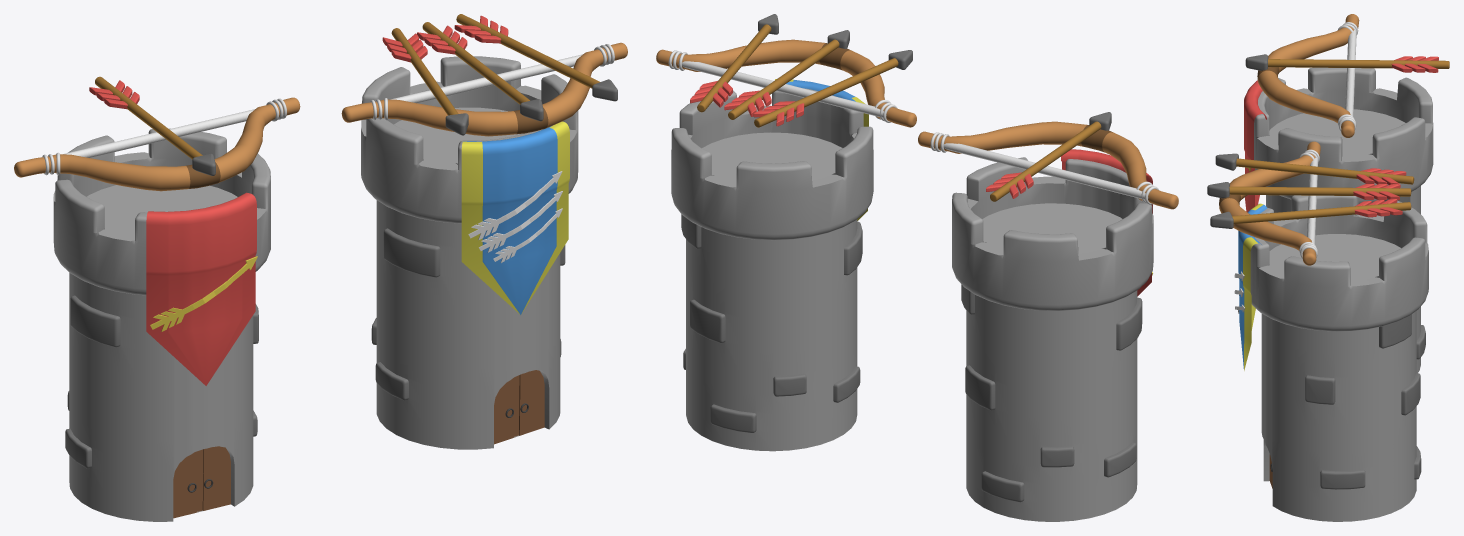
Rendered from Bow and Arrow tower 1.fbx.
3 views of the same model, side by side, from view 1: azimuth 30°, elevation 25°; view 2: azimuth 150°, elevation 25°; view 3: azimuth 270°, elevation 25° (orthographic). The views are drawn at different scales.
Visible parts, largest first — view 1: Cylinder.005, Cylinder.002, BezierCircle, BezierCircle.001, Cube.012, Cube.008, Cube.009, Cube.011, Cylinder.003, Cylinder.004; view 2: Cylinder.005, Cylinder.002, BezierCircle, BezierCircle.001, Cube.011, Cube.008, Cube.009, Cylinder.003, Cube.012, Cylinder.004; view 3: Cylinder.002, Cylinder.005, BezierCircle, BezierCircle.001, Cube.008, Cube.012, Cube.009, Cube.011, Cylinder.003, Cylinder.004.
Boxes of the visible parts, <box> form: Cylinder.005: <box>53,128,270,521</box>; Cylinder.002: <box>361,56,578,449</box>; BezierCircle: <box>14,97,300,191</box>; BezierCircle.001: <box>341,42,627,136</box>; Cube.012: <box>454,14,617,101</box>; Cube.008: <box>89,76,215,175</box>; Cube.009: <box>417,22,543,121</box>; Cube.011: <box>382,28,468,135</box>; Cylinder.003: <box>63,109,254,157</box>; Cylinder.004: <box>390,54,582,103</box>; Cylinder.005: <box>952,149,1153,521</box>; Cylinder.002: <box>671,79,873,451</box>; BezierCircle: <box>918,121,1178,209</box>; BezierCircle.001: <box>656,39,916,127</box>; Cube.011: <box>753,50,912,127</box>; Cube.008: <box>986,112,1111,201</box>; Cube.009: <box>724,30,849,119</box>; Cylinder.003: <box>943,143,1148,199</box>; Cube.012: <box>690,14,778,112</box>; Cylinder.004: <box>682,61,886,117</box>; Cylinder.002: <box>1234,195,1428,521</box>; Cylinder.005: <box>1244,67,1433,373</box>; BezierCircle: <box>1257,14,1359,137</box>; BezierCircle.001: <box>1219,141,1320,265</box>; Cube.008: <box>1245,54,1449,72</box>; Cube.012: <box>1210,199,1411,228</box>; Cube.009: <box>1207,182,1411,200</box>; Cube.011: <box>1215,153,1414,184</box>; Cylinder.003: <box>1345,30,1356,116</box>; Cylinder.004: <box>1307,157,1318,244</box>.
Bounding box in the file's own units: 1424 × 845 × 608.
